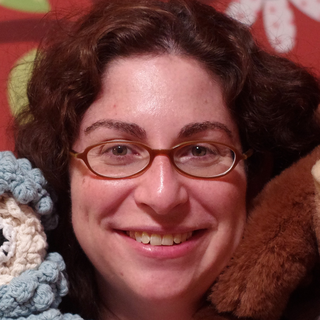eye: (98, 140, 143, 162), (179, 141, 219, 162)
